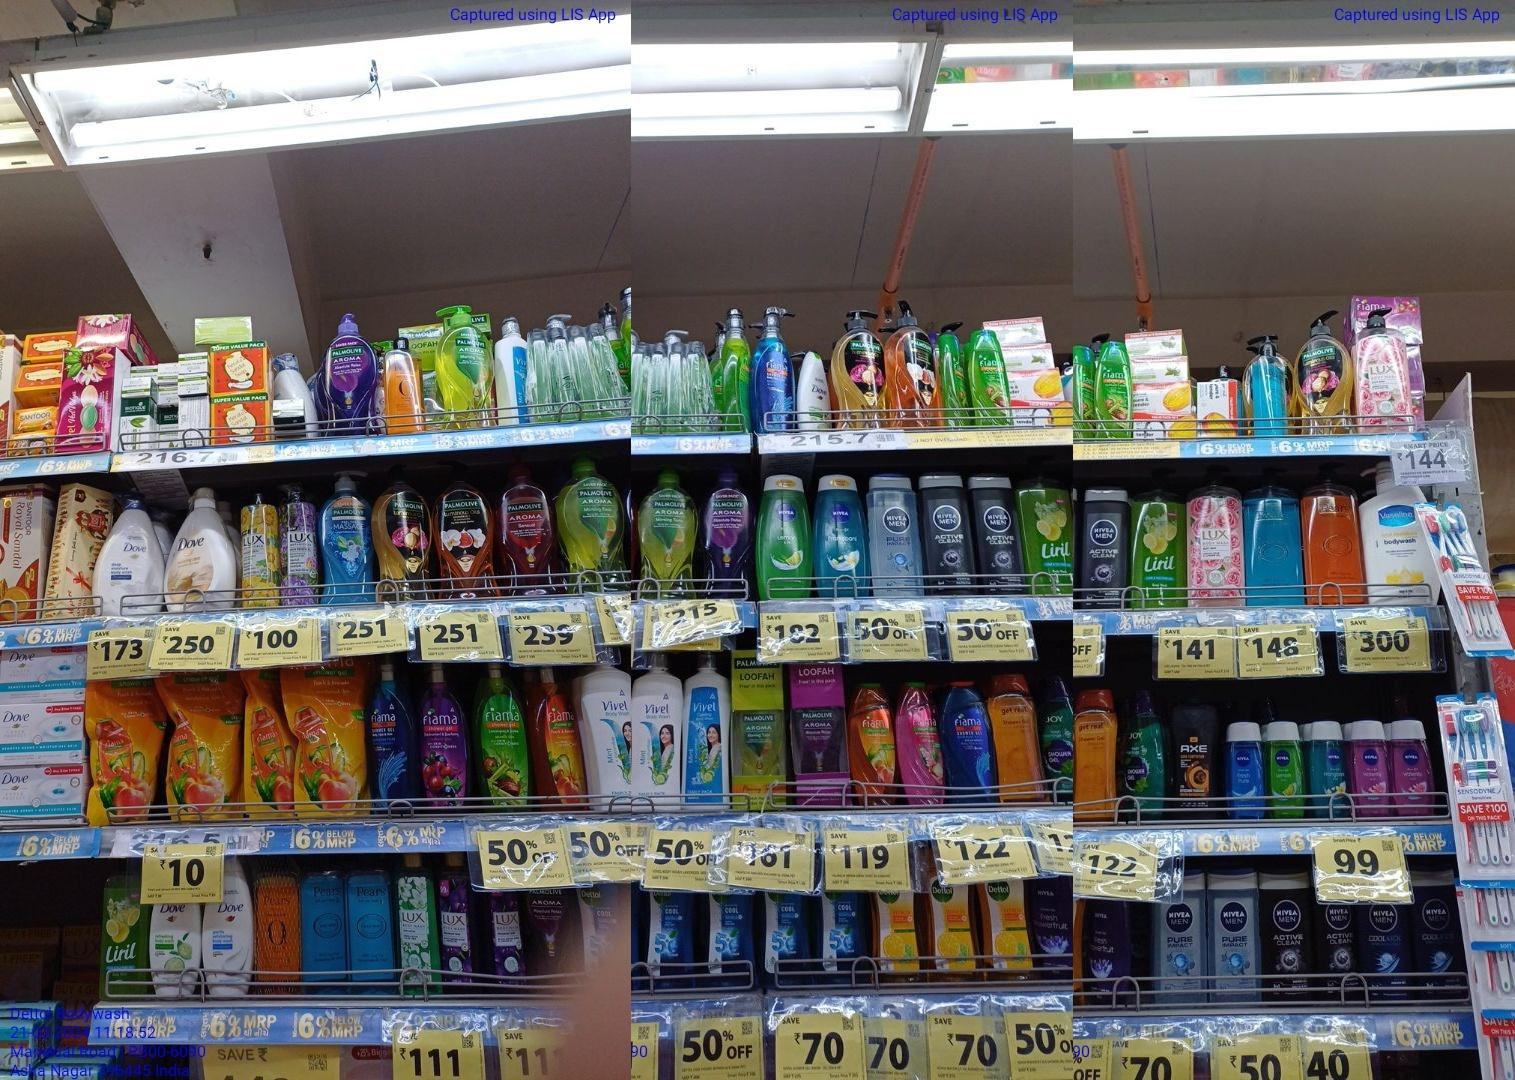Dettol_Bodywash_Cool: (644, 887, 701, 978), (705, 887, 761, 976), (821, 889, 869, 978), (765, 892, 811, 977)
Dettol_Bodywash_Refresh: (929, 875, 978, 984), (984, 881, 1037, 978), (873, 887, 922, 978)
Dove_Gentle_Exfoliating_Body_Wash_250ML: (202, 863, 254, 997)
Get_Real_Shower_Gel_Moisturising_Glycerin_300ML: (994, 676, 1047, 799), (1075, 690, 1119, 822)
Joy_Shower_Gel_Mint_and_Eucalyptus_250ML: (1119, 690, 1169, 819)
Lux_Black_Orchid_Scent_and_Juniper_Oil_Body_Wash_245ML: (436, 856, 485, 991), (487, 894, 533, 996)
Lux_Body_Wash_Skin_Detox_Freesia_Scent_and_Alove_Vera_245ML: (396, 854, 441, 998)
Nivea_Shower_Gel_Frangipani_and_Oil_250ML: (816, 469, 866, 603)
Nivea_Shower_Gel_Lemon_and_Oil_250ML: (761, 472, 812, 601)
